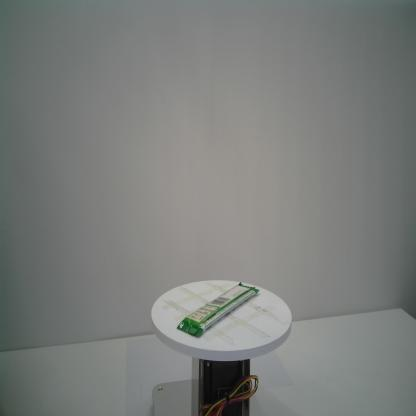Chocolate: (176, 280, 260, 339)
